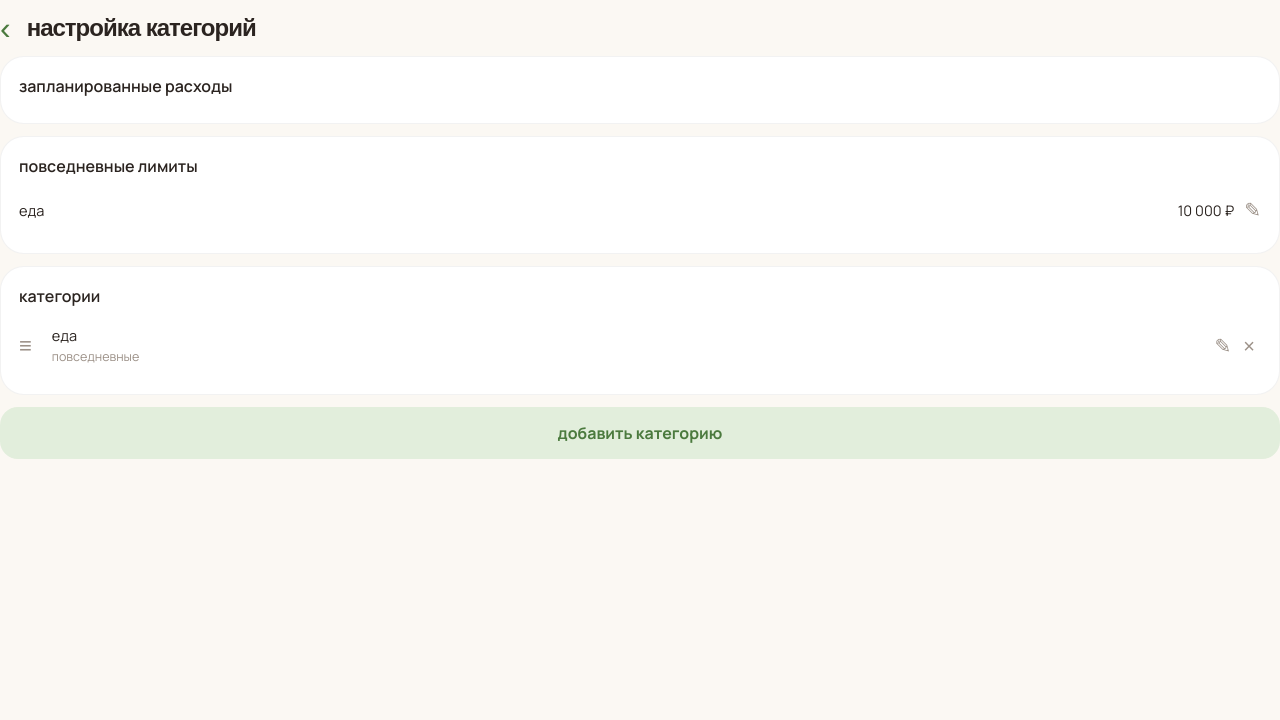
Test: category settings UI › opens a compact add-category form with a short submit label
Click the button "добавить категорию" at (640, 433), box [0,407,1279,459]
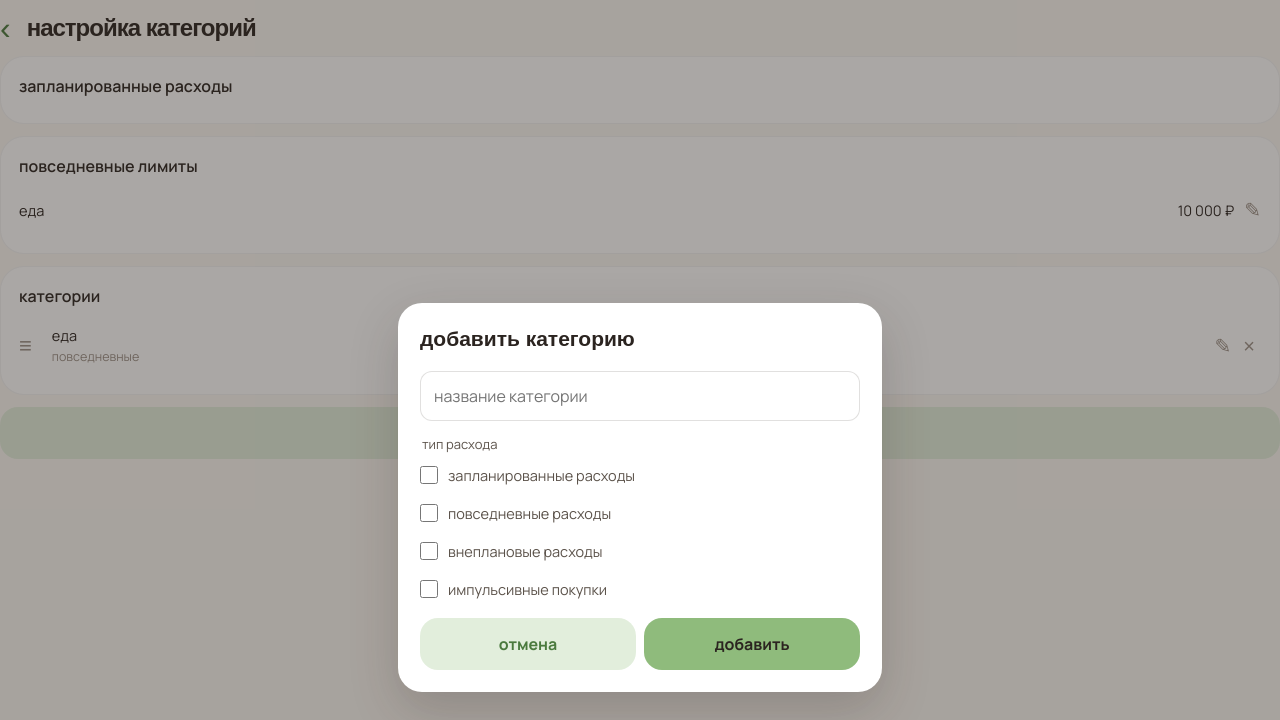
Check: the heading "добавить категорию" is shown, box [420,325,635,353]
Check: the button "добавить" is shown, box [644,618,860,670]
